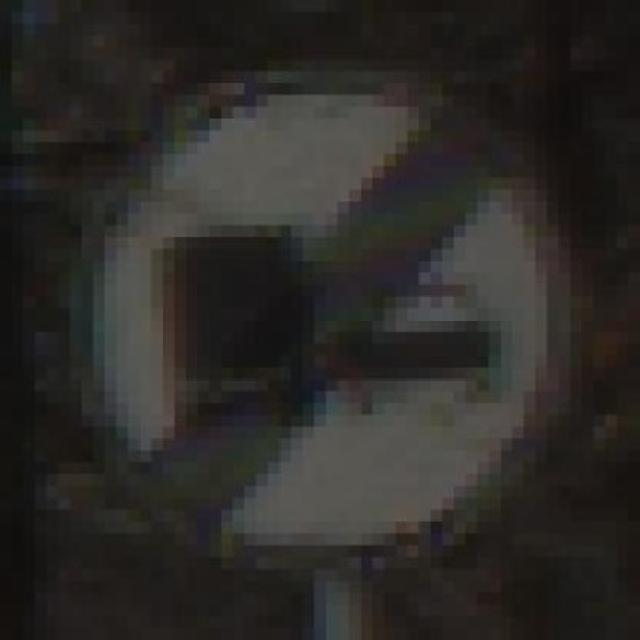Overtaking by trucks is prohibited: (47, 35, 628, 617)
